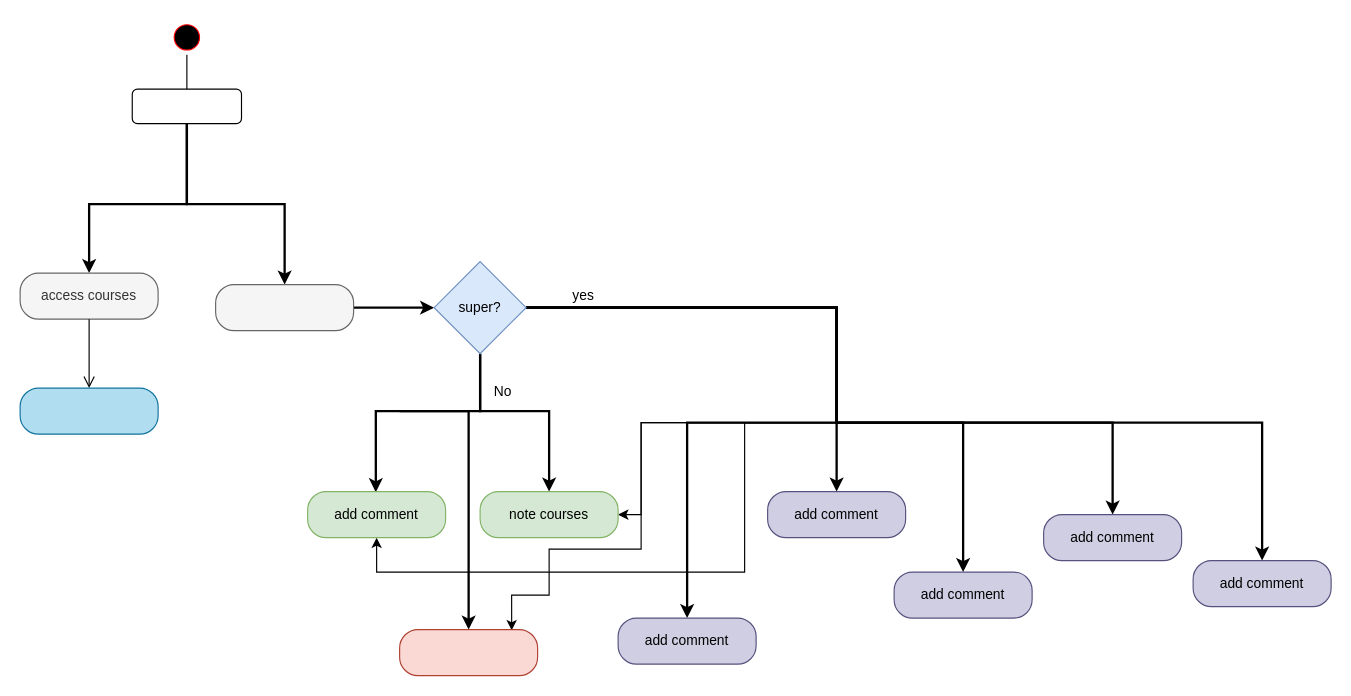
Image size: 1351x696. Some labels were removed from this diagram. Each missing label, with the box of its shape:
homepage: (131, 88, 241, 124)
log in/ sign up: (214, 283, 354, 331)
log out: (398, 628, 538, 676)
read comments: (19, 387, 158, 434)
